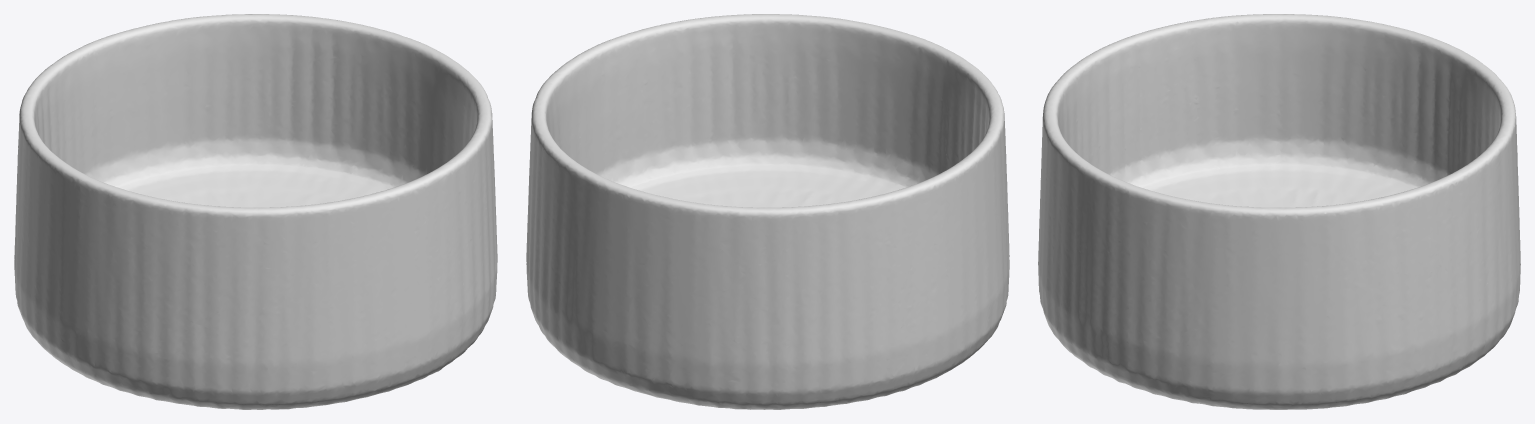
The model's file is modern-white-sink.glb.
3 views of the same model, side by side, from view 1: azimuth 30°, elevation 25°; view 2: azimuth 150°, elevation 25°; view 3: azimuth 270°, elevation 25° (orthographic).
Parts seen in each view (by area): view 1: world; view 2: world; view 3: world.
Boxes of the visible parts, x1=… form: world: x1=14, y1=14, x2=497, y2=409; world: x1=526, y1=14, x2=1009, y2=409; world: x1=1038, y1=14, x2=1520, y2=409.
Bounding box in the file's own units: 0.9992 × 0.4915 × 0.9994.
1 material, 1 textured.
